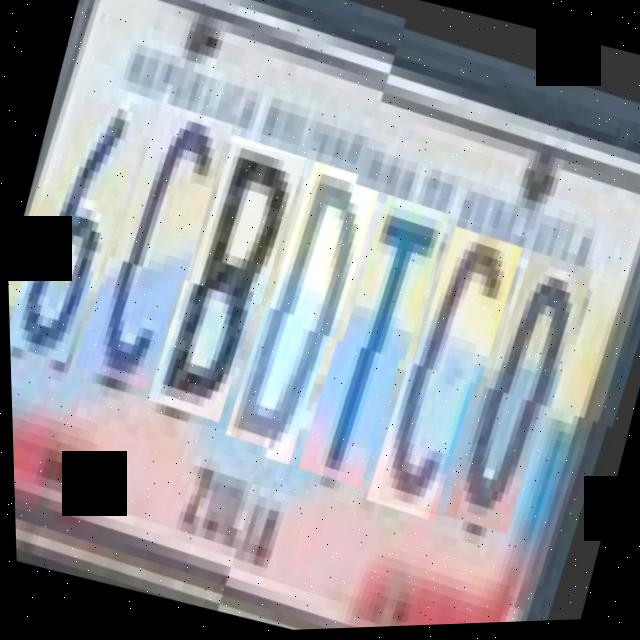6: (2, 93, 155, 378)
B: (145, 139, 312, 437)
C: (366, 219, 531, 525), (72, 105, 238, 405)
D: (222, 164, 387, 470)
O: (446, 243, 602, 538)
T: (298, 188, 458, 492)
